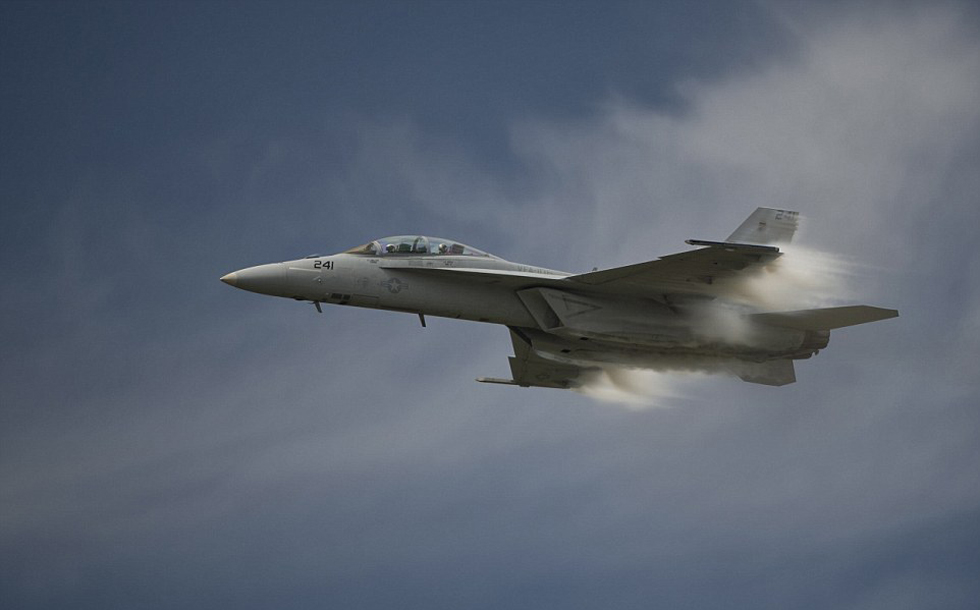airplane: (215, 201, 902, 400)
